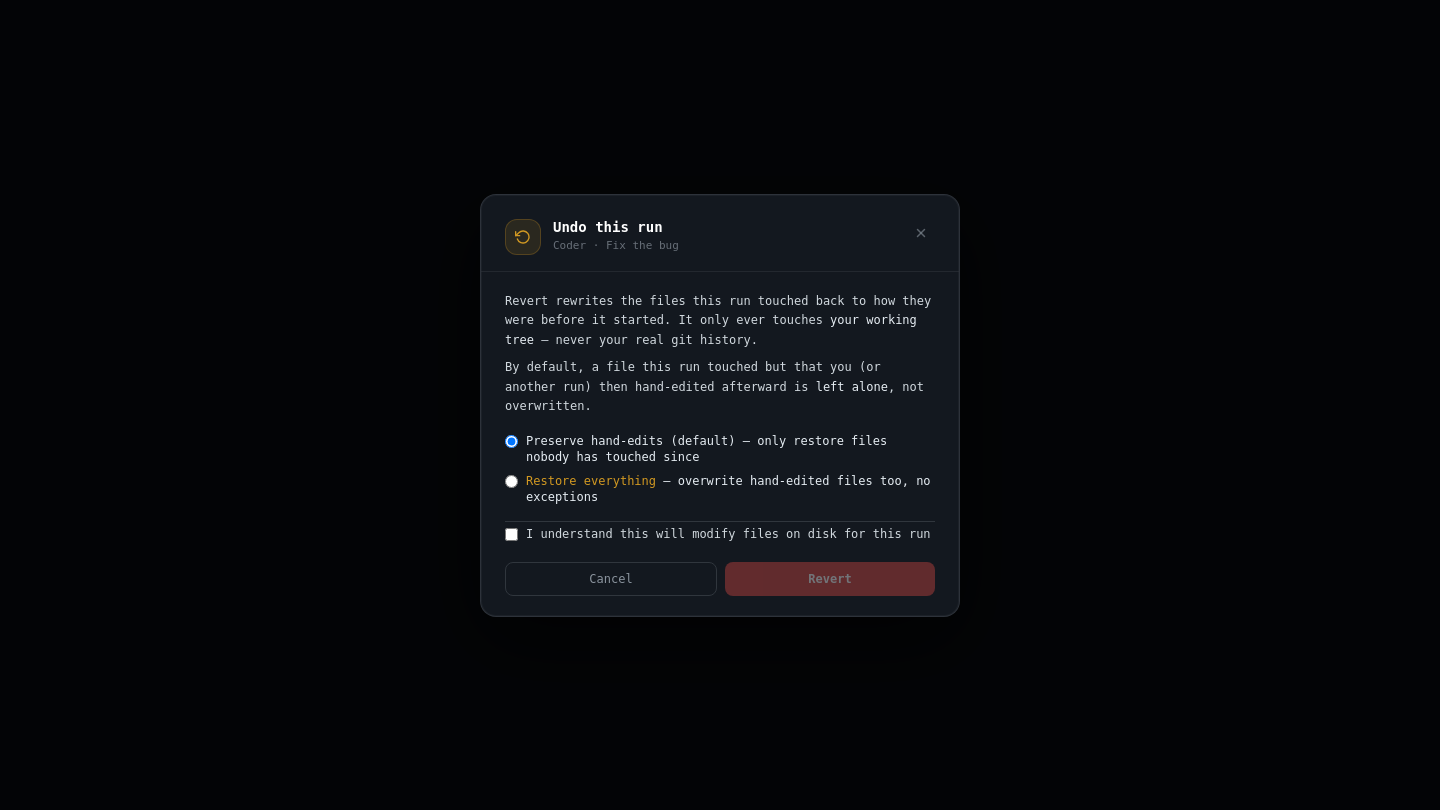
it: CheckpointRevertDialog › disables the Revert button until the confirm checkbox is checked
Check: the button with test id "checkpoint-revert-confirm-btn" is disabled, box [725, 562, 935, 596]
Click the checkbox with test id "checkpoint-revert-confirm": (512, 534) [505, 528, 518, 540]
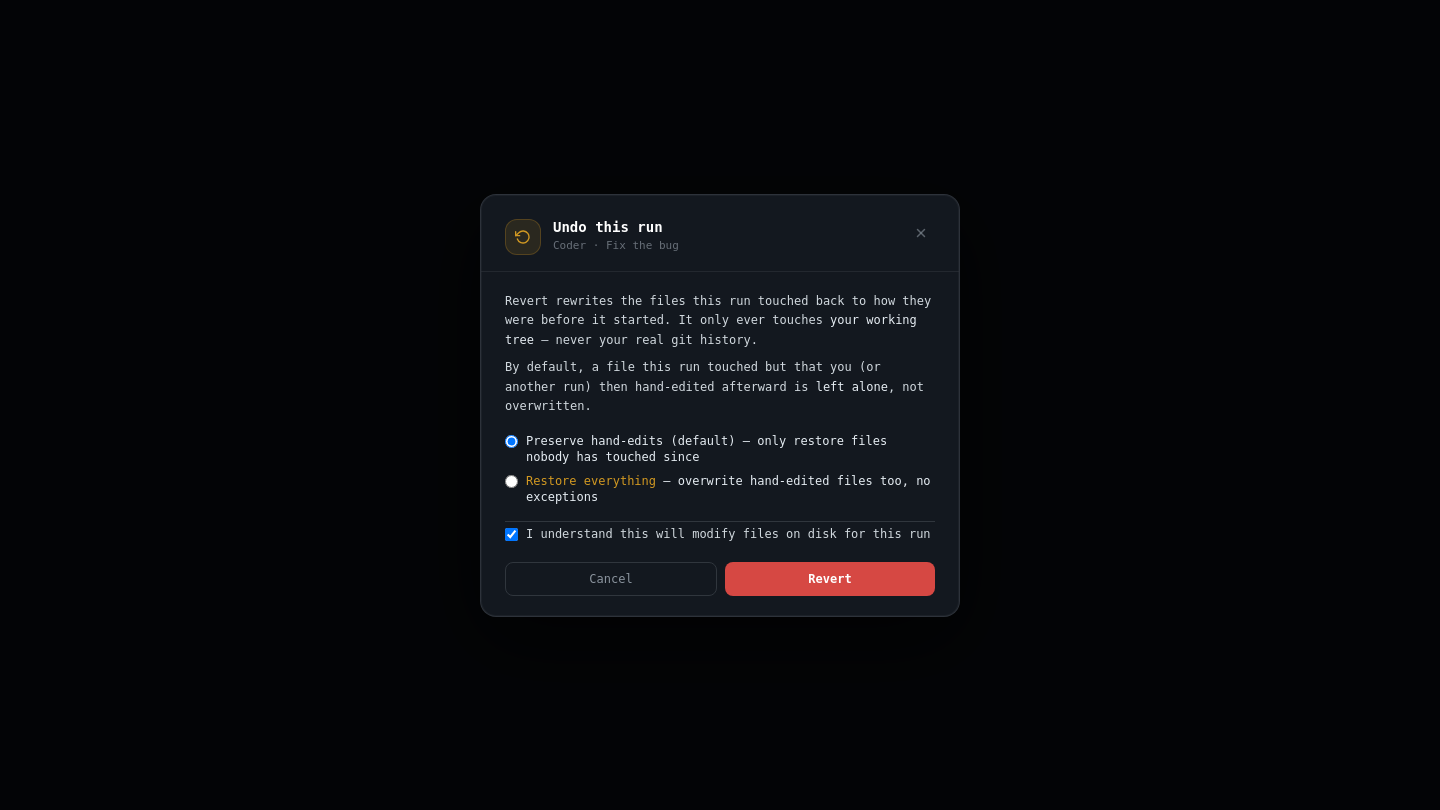
Check: the button with test id "checkpoint-revert-confirm-btn" is enabled, box [725, 562, 935, 596]
